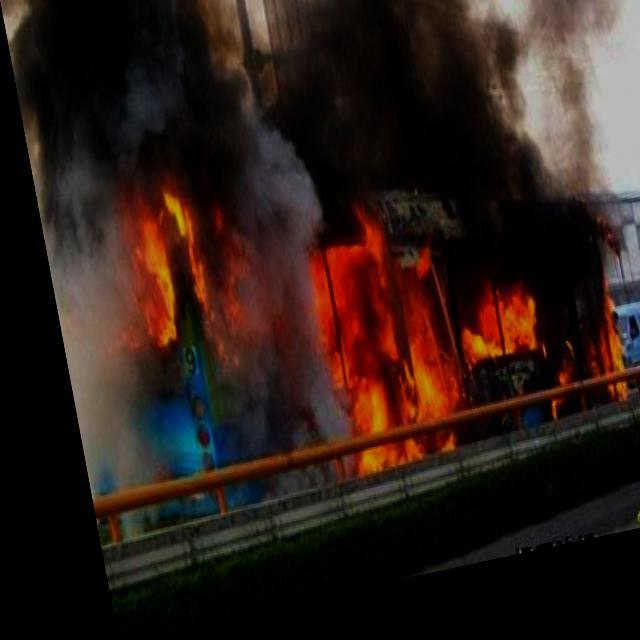Fire: (92, 89, 619, 521)
